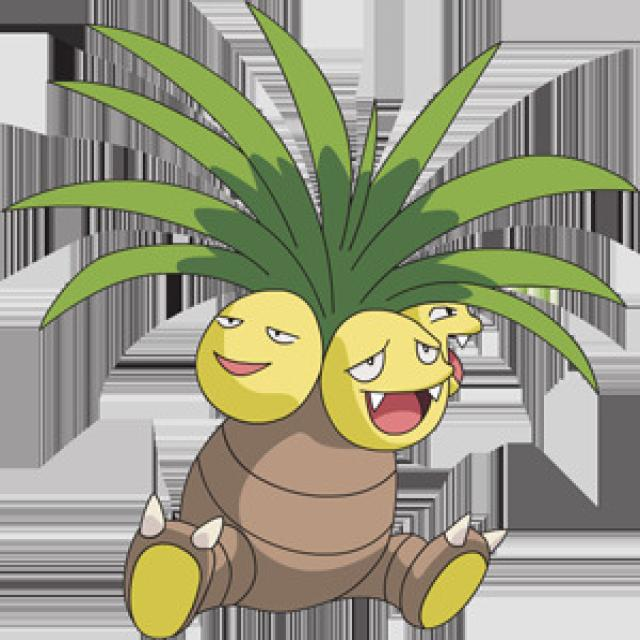Exeggutor: (139, 115, 514, 603)
